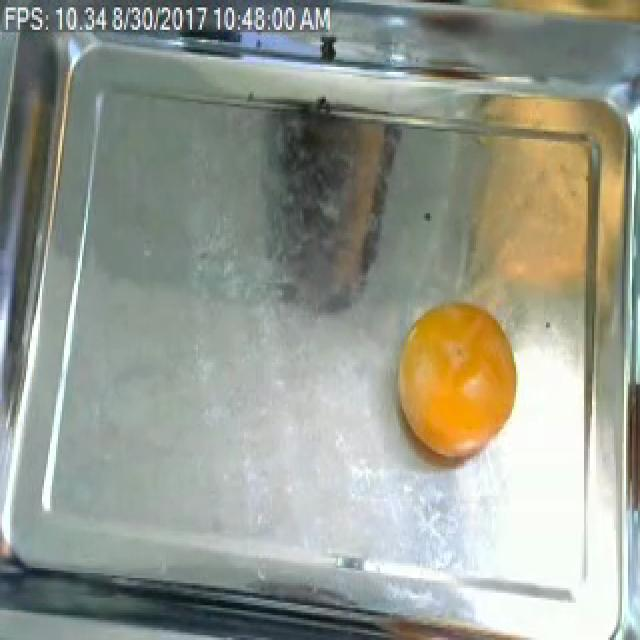Fruit: (454, 119, 606, 355), (390, 296, 524, 462)
